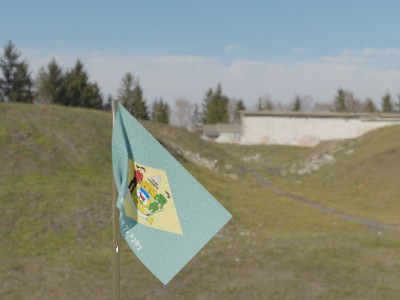Delaware flag: (111, 101, 232, 285)
